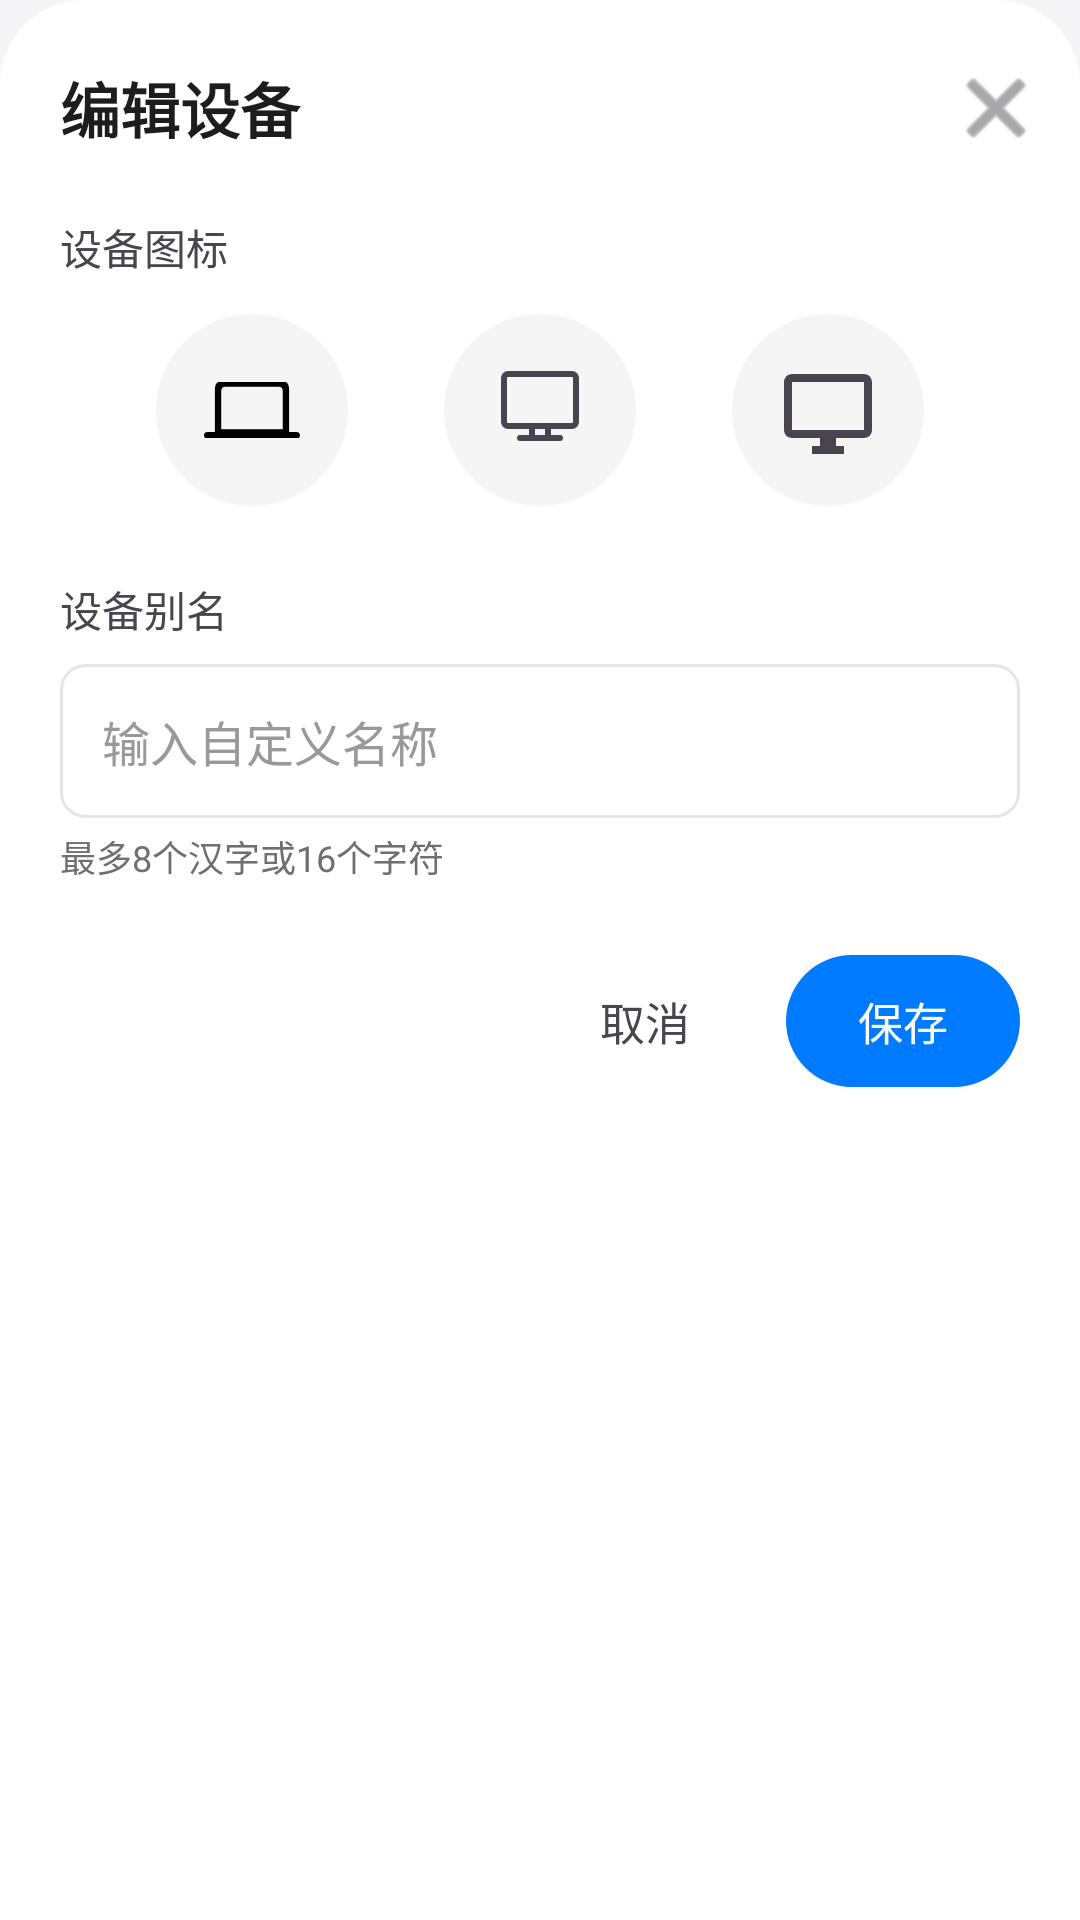

Screen size 1080w x 1920h. Icon name, then its center in pixels as (x,y):
device laptop: (252,410)
关闭: (996,108)
